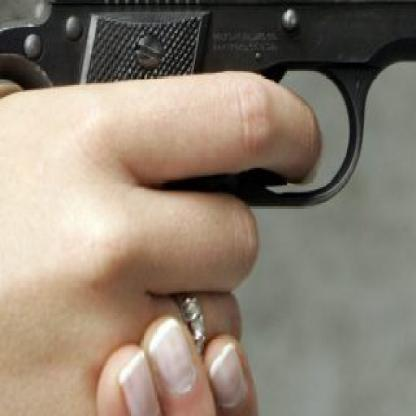gun: (0, 0, 415, 215)
